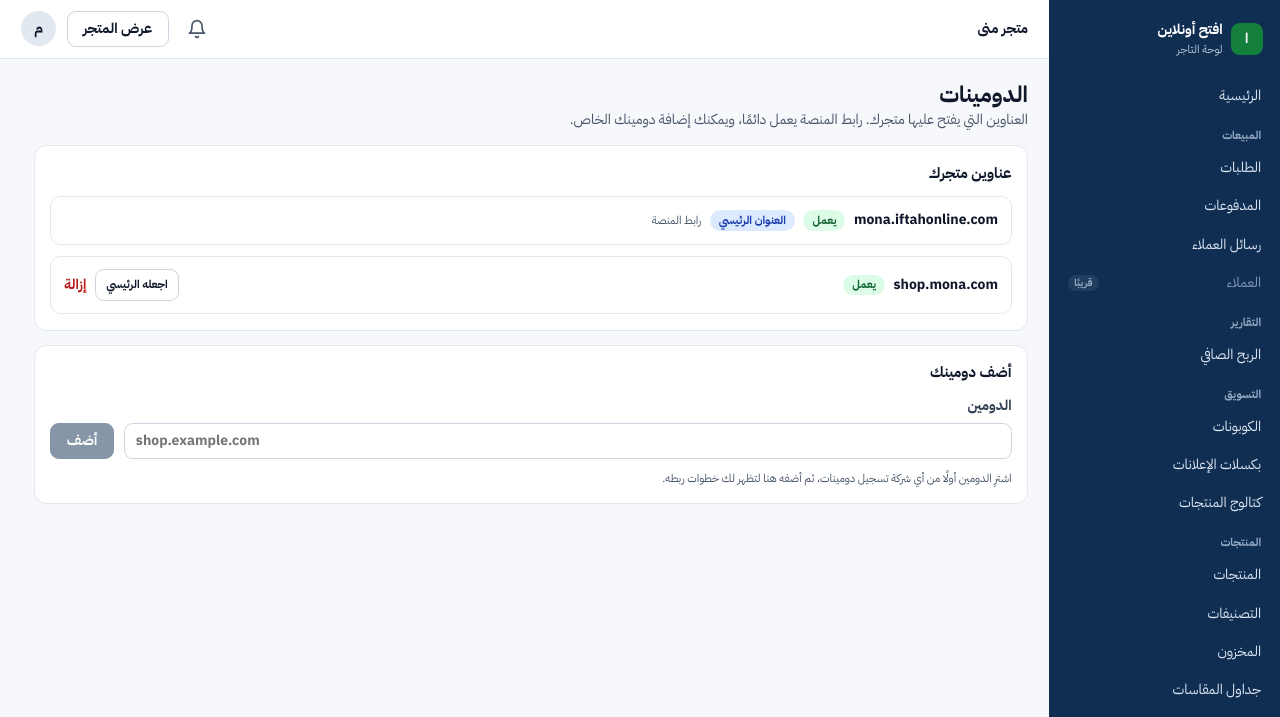
Test: Domains › makes a working domain the main one and removes another
Expected: the text "يعمل" next to "shop.mona.com" is shown, 852,276 -> 876,293
Click the button "اجعله الرئيسي": x=137, y=285 95,269 -> 179,301
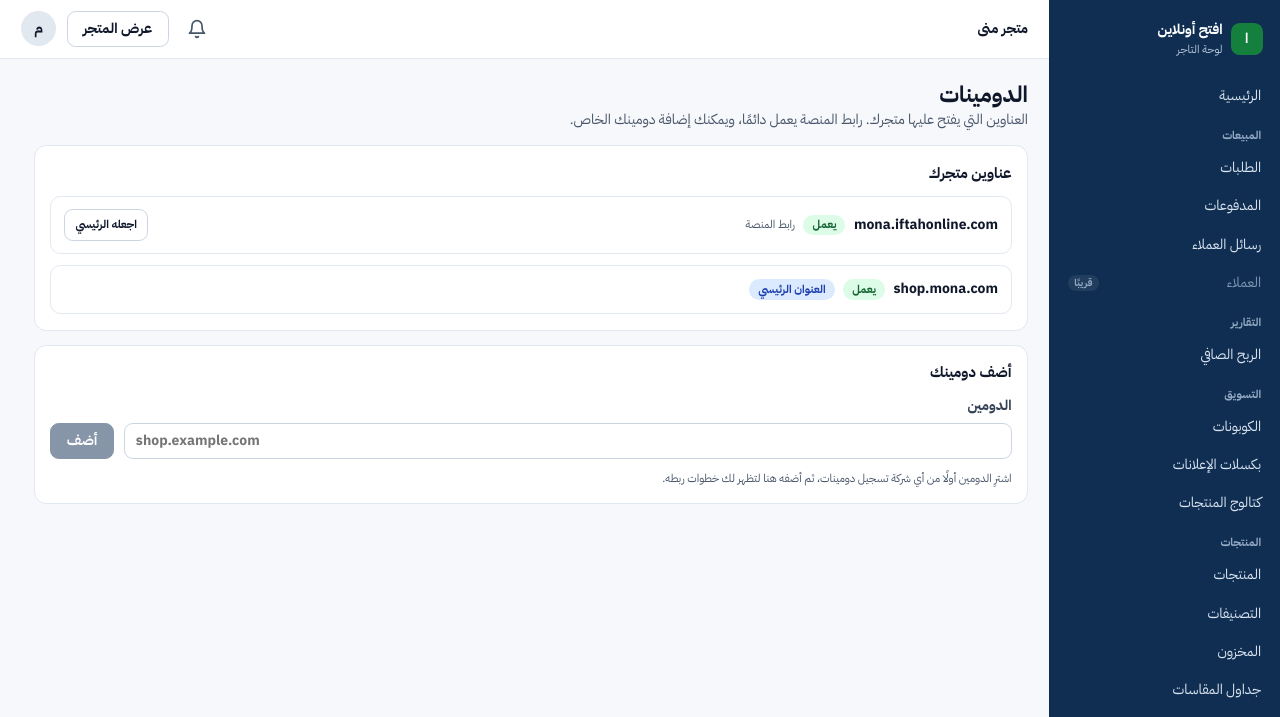
Expected: the text "العنوان الرئيسي" is shown, 749,279 -> 835,300
Expected: the button "إزالة" is gone
